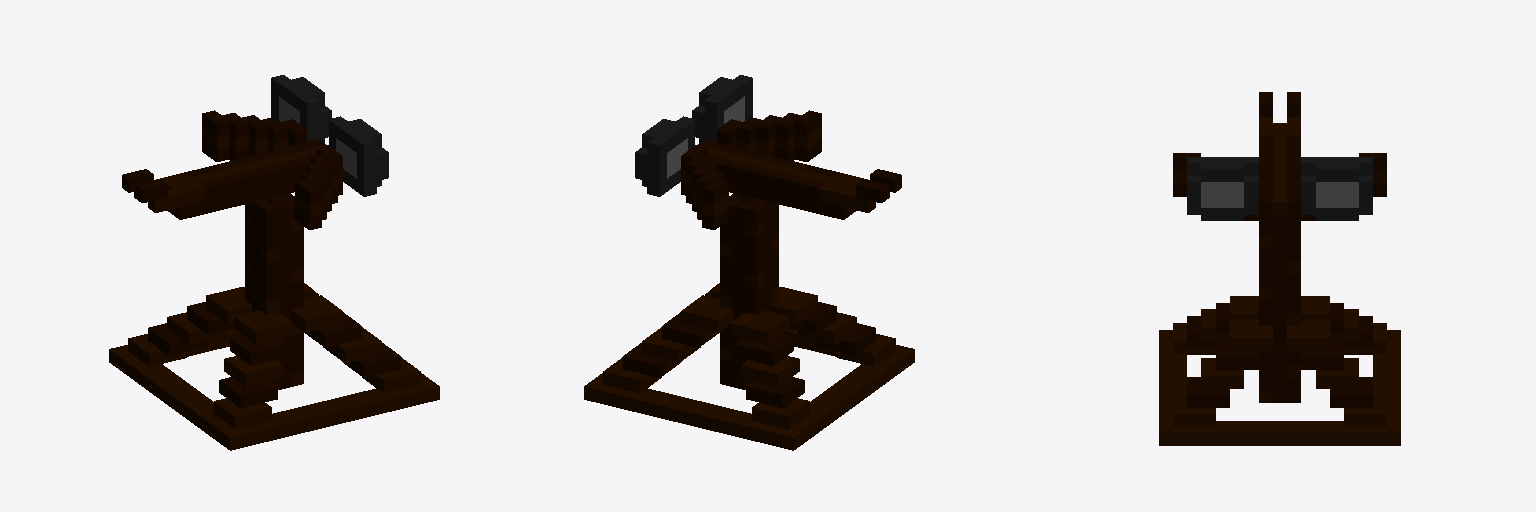
3 views of the same model, side by side, from view 1: azimuth 30°, elevation 25°; view 2: azimuth 150°, elevation 25°; view 3: azimuth 270°, elevation 25° (orthographic).
Visible parts, largest first — view 1: BalistaWood; view 2: BalistaWood; view 3: BalistaWood.
Boxes of the visible parts, <box> form: BalistaWood: <box>109,75,439,450</box>; BalistaWood: <box>584,75,914,450</box>; BalistaWood: <box>1159,92,1400,445</box>.
Bounding box in the file's own units: 20 × 20 × 17.
Materials: 1 (1 with a texture image).